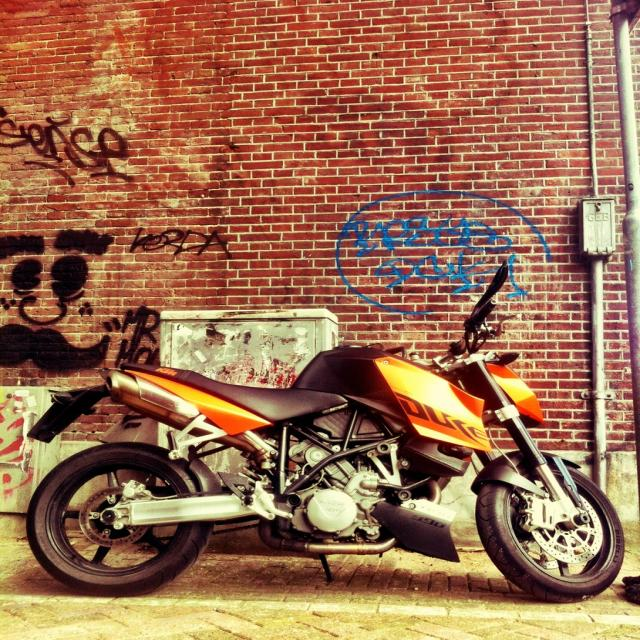Motorbikes: (24, 310, 627, 604)
